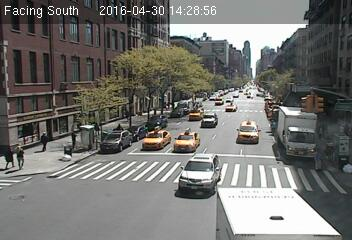neg: (68, 177, 95, 213), (240, 117, 260, 144), (129, 195, 149, 222), (129, 46, 148, 72), (232, 73, 250, 98), (184, 106, 201, 129), (202, 146, 217, 166), (204, 176, 219, 196), (193, 27, 207, 46), (302, 97, 316, 115), (142, 121, 155, 139), (237, 34, 248, 49)
pos: (9, 142, 29, 169), (32, 127, 52, 153), (309, 144, 328, 170), (1, 144, 17, 166), (67, 129, 80, 146), (113, 120, 124, 135)
